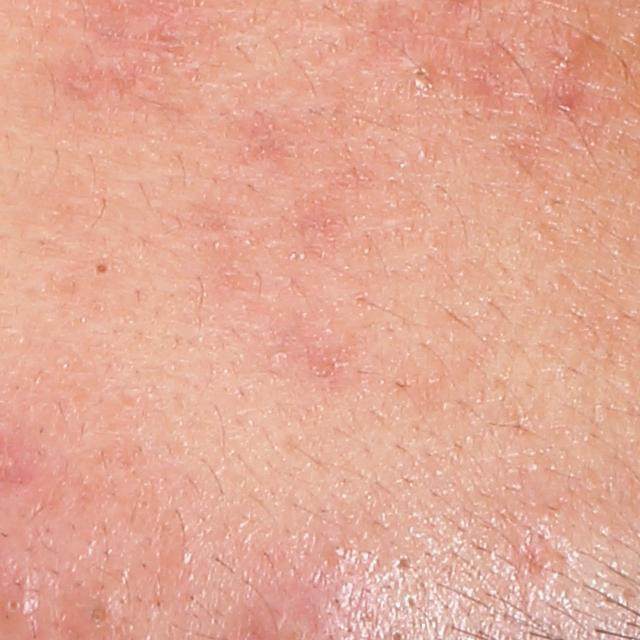comedo: (80, 600, 116, 632), (404, 60, 435, 90)
